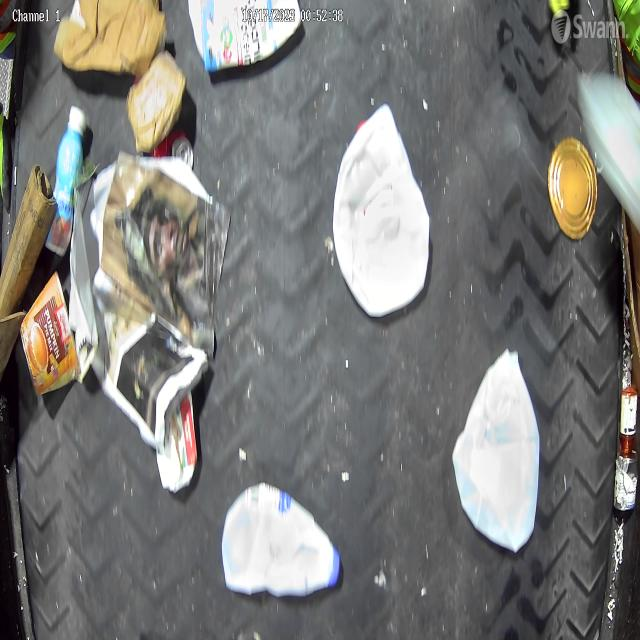can: (548, 138, 596, 241), (615, 450, 638, 512), (171, 130, 194, 168)
milk_jug: (333, 105, 430, 317), (452, 349, 539, 551), (222, 483, 340, 596)
